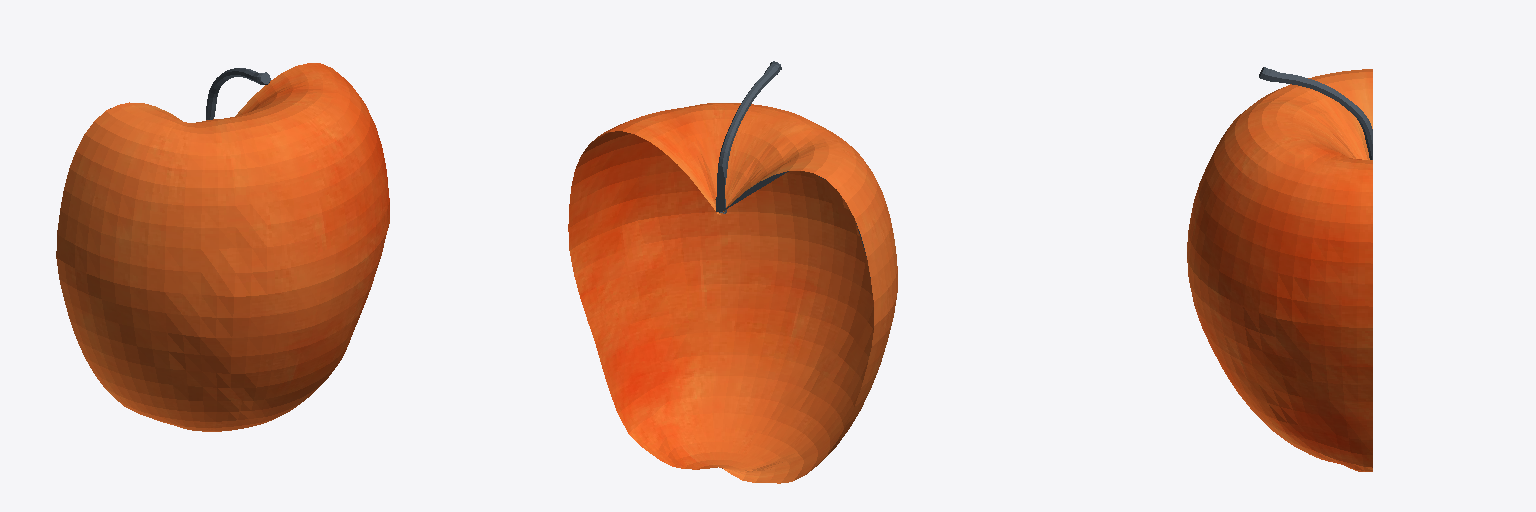
The picture shows the model from 3 angles: view 1: azimuth 30°, elevation 25°; view 2: azimuth 150°, elevation 25°; view 3: azimuth 270°, elevation 25°; orthographic projection.
Visible parts, largest first — view 1: apple_skin, apple_stem; view 2: apple_skin, apple_stem; view 3: apple_skin, apple_stem.
Part boxes in pixels (left/top/right/bottom): apple_skin: left=56, top=63, right=389, bottom=431; apple_stem: left=110, top=68, right=270, bottom=119; apple_skin: left=568, top=103, right=897, bottom=483; apple_stem: left=716, top=61, right=870, bottom=277; apple_skin: left=1187, top=69, right=1372, bottom=471; apple_stem: left=1259, top=67, right=1372, bottom=159.
Size of the model in its own units: 65.37 by 76.93 by 34.48.
Materials: 2 (1 with a texture image).